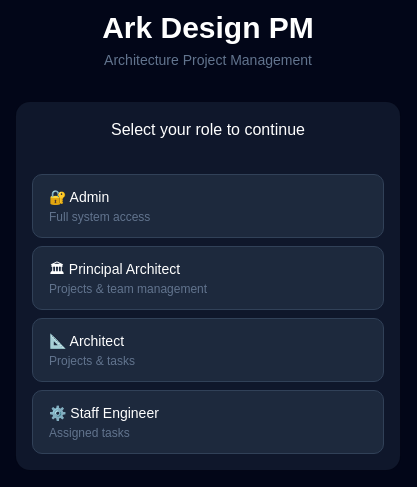
Test: renders email and password fields after selecting a role
Click the text "🔐 Admin" at [79, 197], box [49,189,109,205]
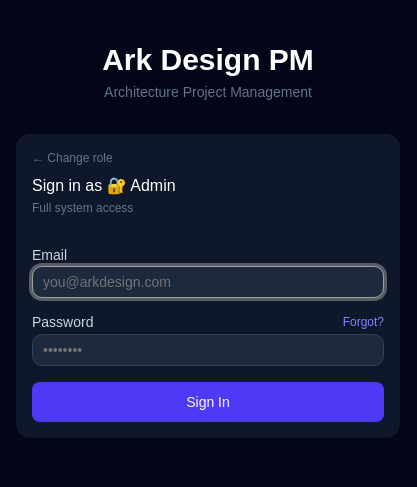
Expected: the field labelled "Email" is shown, [32,266,384,298]
Expected: the password field labelled "Password" is shown, [32,334,384,366]
